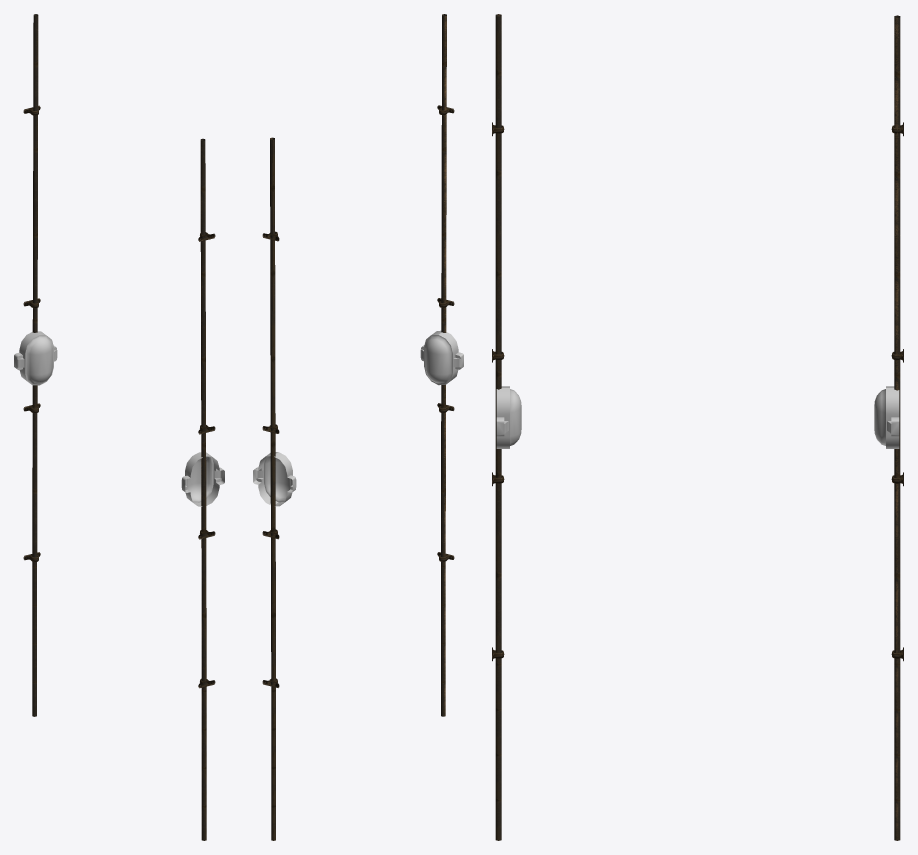
File: elevator_lights.dae
3 renders of one model, left to right at view 1: azimuth 30°, elevation 25°; view 2: azimuth 150°, elevation 25°; view 3: azimuth 270°, elevation 25°, orthographic. The views are drawn at different scales.
Visible parts, largest first — view 1: polySurface292, polySurface291; view 2: polySurface292, polySurface291; view 3: polySurface292, polySurface291.
Part boxes in pixels (<box>): polySurface292: <box>23,14,215,840</box>; polySurface291: <box>14,331,224,506</box>; polySurface292: <box>262,14,454,840</box>; polySurface291: <box>253,330,463,506</box>; polySurface292: <box>492,14,903,840</box>; polySurface291: <box>496,386,899,448</box>.
Bounding box in the file's own units: 47.27 × 800 × 363.
